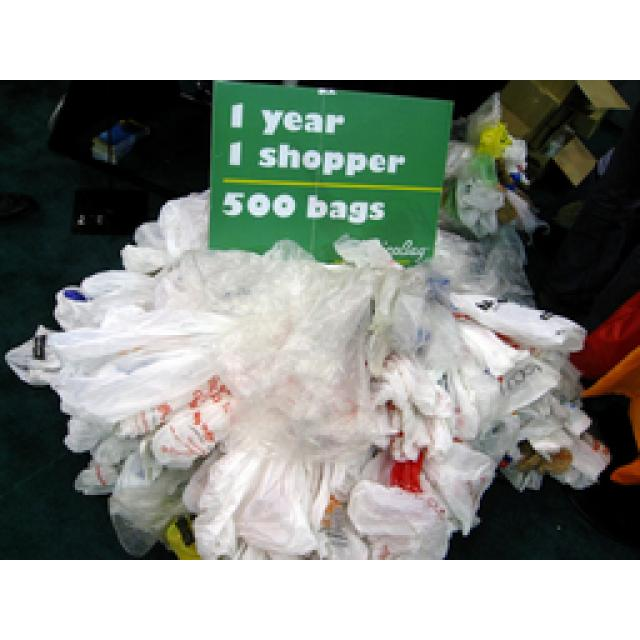plastic: (5, 88, 608, 555)
